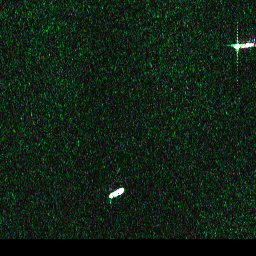ship: (106, 184, 126, 200), (230, 41, 255, 50)
